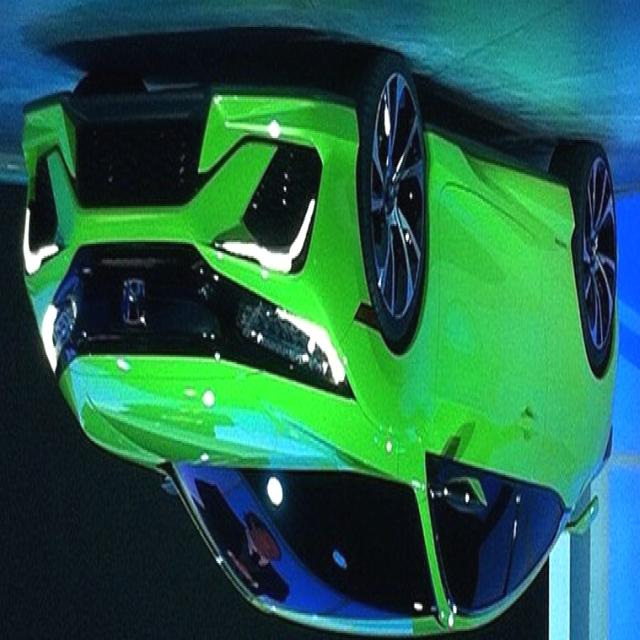green: (22, 56, 622, 640)
